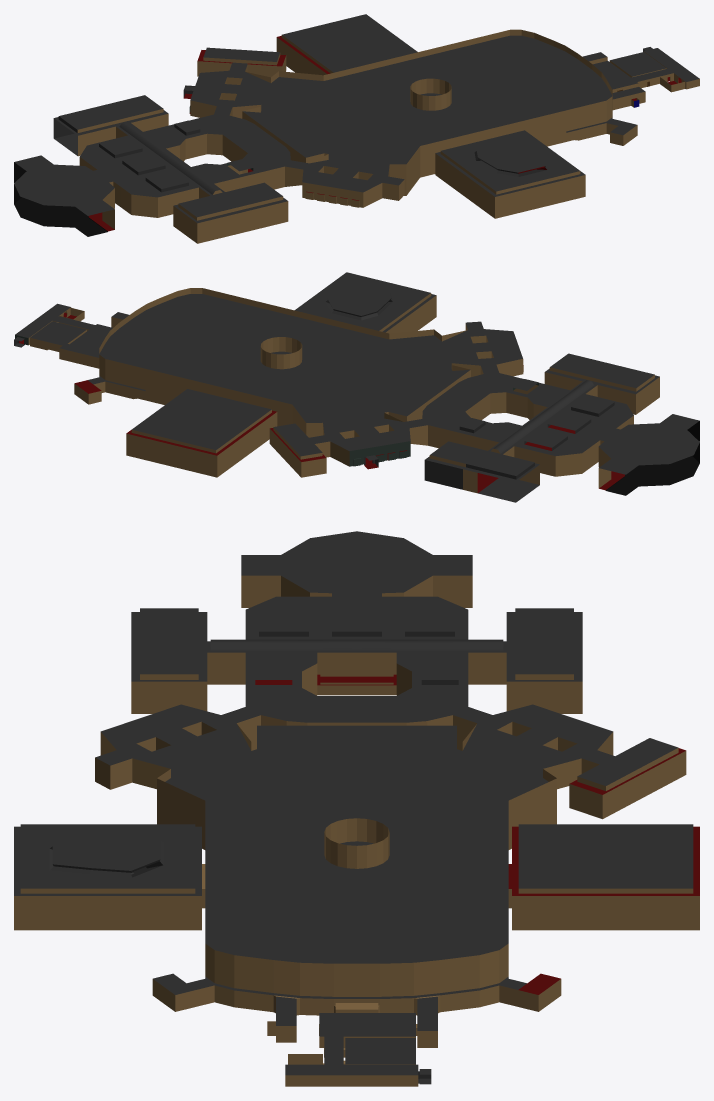
File: nivel_1_techo_bajo.fbx
3 views of the same model, one above another, from view 1: azimuth 30°, elevation 25°; view 2: azimuth 150°, elevation 25°; view 3: azimuth 270°, elevation 25° (orthographic). The views are drawn at different scales.
Visible parts, largest first — view 1: Techo, pared2, Suelo6; view 2: Techo, pared2, Suelo6; view 3: Techo, pared2, Suelo6.
Part boxes in pixels (bbox=[...]): Techo: bbox=[14, 14, 699, 223]; pared2: bbox=[14, 29, 699, 243]; Suelo6: bbox=[14, 77, 681, 236]; Techo: bbox=[14, 272, 699, 481]; pared2: bbox=[14, 288, 699, 493]; Suelo6: bbox=[14, 300, 699, 502]; Techo: bbox=[14, 531, 699, 1075]; pared2: bbox=[14, 575, 699, 1086]; Suelo6: bbox=[49, 676, 508, 1084].
Bounding box in the file's own units: 31005 × 1950 × 17863.
